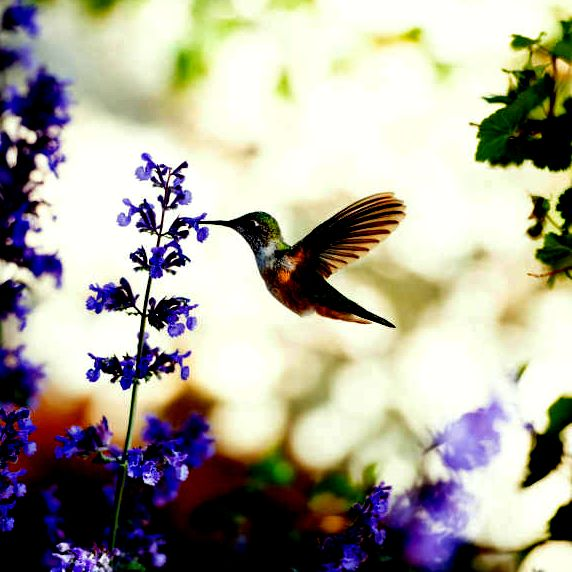Bird: (192, 188, 411, 333)
